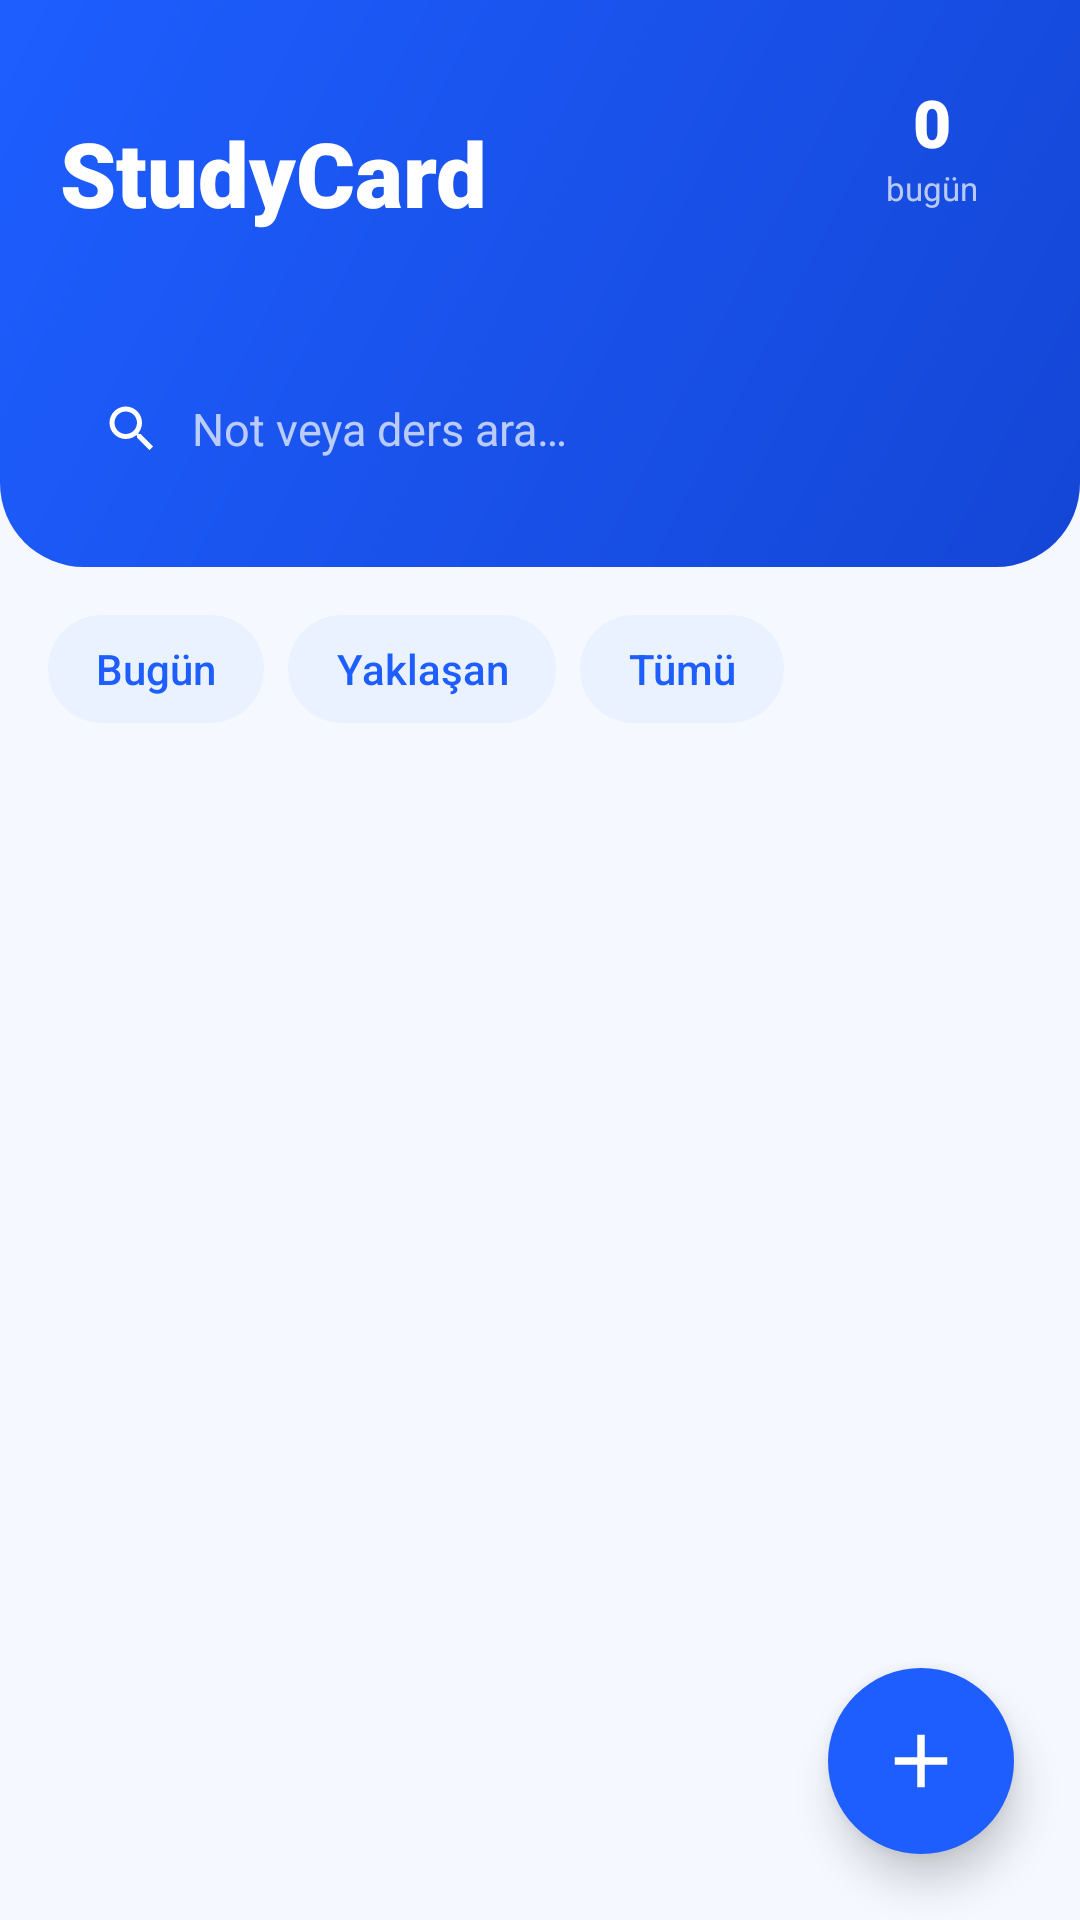

Where icons sit on this 1080x1920 app screen, as (x1, y1, x2, y2):
search: (109, 406, 153, 450)
Yeni Not: (828, 1668, 1014, 1854)
